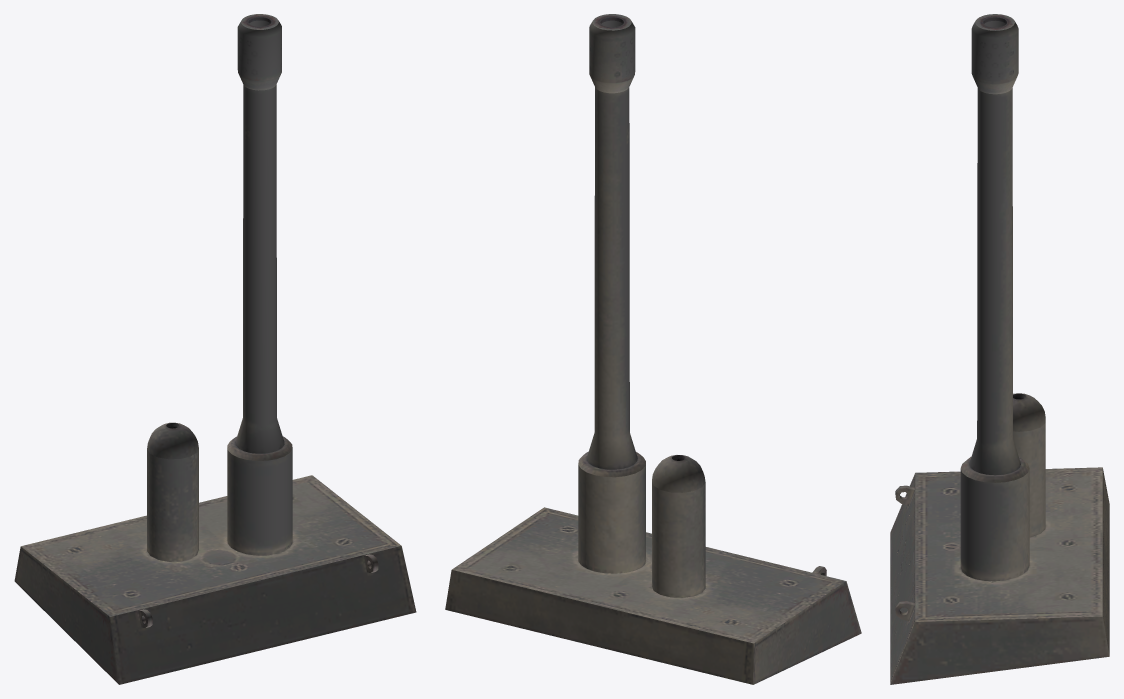
File: Gun_01.glb
3 views of the same model, side by side, from view 1: azimuth 30°, elevation 25°; view 2: azimuth 150°, elevation 25°; view 3: azimuth 270°, elevation 25° (orthographic). The views are drawn at different scales.
Visible parts, largest first — view 1: set_0_group_0; view 2: set_0_group_0; view 3: set_0_group_0.
Part boxes in pixels (x1,y1,x2,y2): set_0_group_0: (14,14,416,684); set_0_group_0: (445,14,861,684); set_0_group_0: (890,14,1109,684).
Bounding box in the file's own units: 0.7174 × 1.34 × 0.4373.
1 material, 1 textured.
